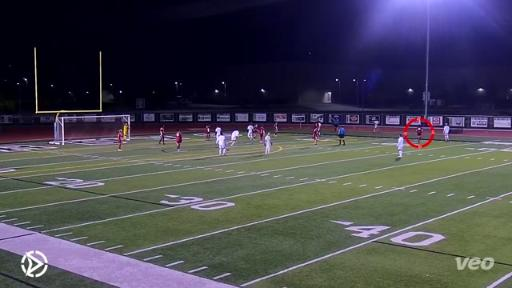highlight_overlay: (403, 113, 435, 150)
